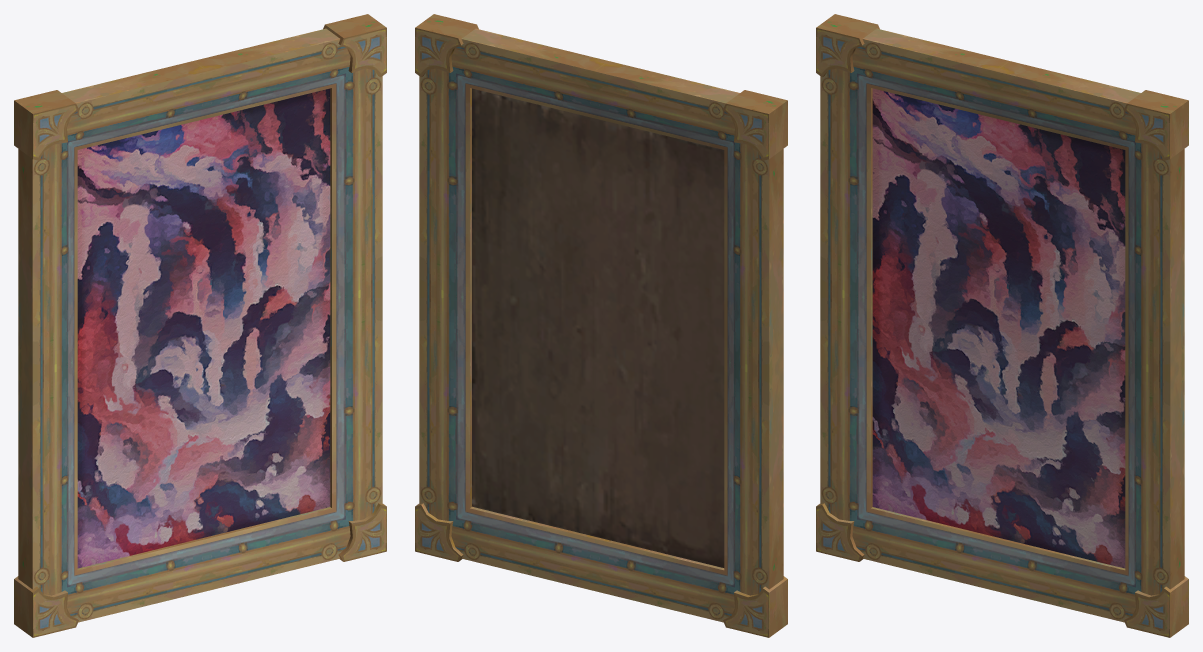
File: Homeworld_Interior_Fd_Walldecoration_Prop_TwistPic_01_Vo.fbx
3 renders of one model, left to right at view 1: azimuth 30°, elevation 25°; view 2: azimuth 150°, elevation 25°; view 3: azimuth 330°, elevation 25°, orthographic.
Visible parts, largest first — view 1: Homeworld_Interior_Fd_Walldecoration_Prop_TwistPic_01_Vo; view 2: Homeworld_Interior_Fd_Walldecoration_Prop_TwistPic_01_Vo; view 3: Homeworld_Interior_Fd_Walldecoration_Prop_TwistPic_01_Vo.
Boxes of the visible parts, left/top/right/bottom form: Homeworld_Interior_Fd_Walldecoration_Prop_TwistPic_01_Vo: left=14, top=14, right=386, bottom=637; Homeworld_Interior_Fd_Walldecoration_Prop_TwistPic_01_Vo: left=415, top=14, right=787, bottom=637; Homeworld_Interior_Fd_Walldecoration_Prop_TwistPic_01_Vo: left=816, top=14, right=1188, bottom=637.
Bounding box in the file's own units: 1.15 × 1.63 × 0.1061.
